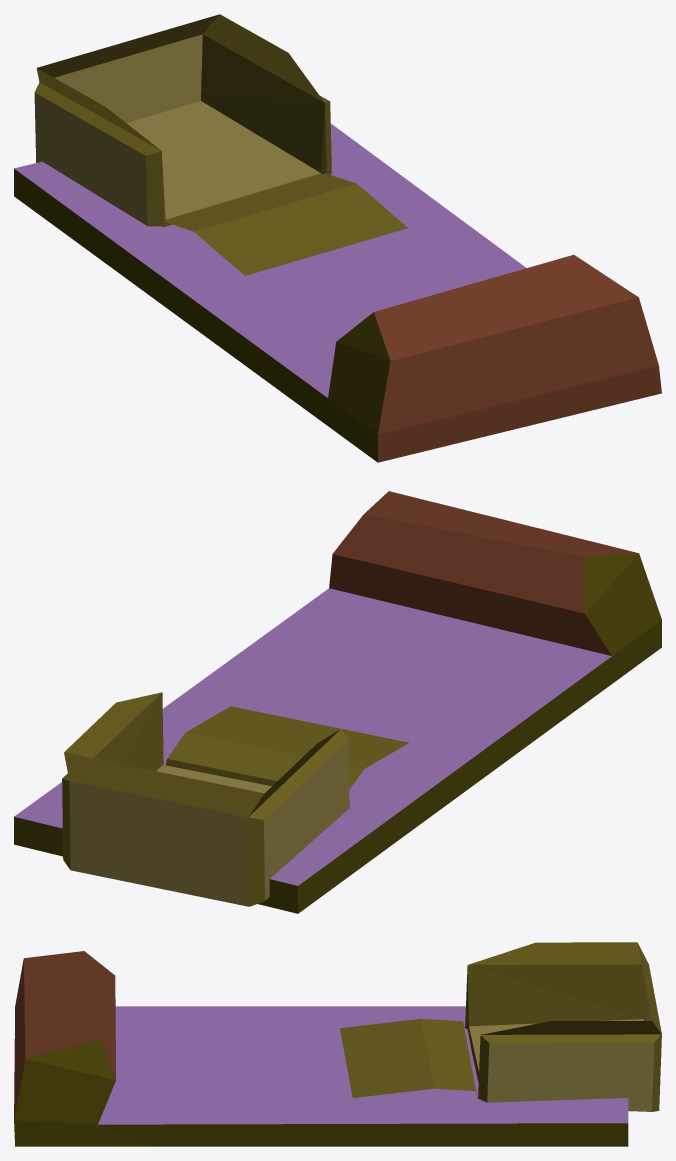
File: merchant_bag_open.glb
3 views of the same model, one above another, from view 1: azimuth 30°, elevation 25°; view 2: azimuth 150°, elevation 25°; view 3: azimuth 270°, elevation 25° (orthographic). The views are drawn at different scales.
Parts seen in each view (by area): view 1: Cube; view 2: Cube; view 3: Cube.
Part boxes in pixels (left/top/right/bottom): Cube: left=14, top=14, right=661, bottom=462; Cube: left=14, top=491, right=661, bottom=913; Cube: left=14, top=942, right=661, bottom=1146.
Size of the model in its own units: 1.33 by 0.5454 by 3.12.
Materials: 2 (2 with a texture image).
